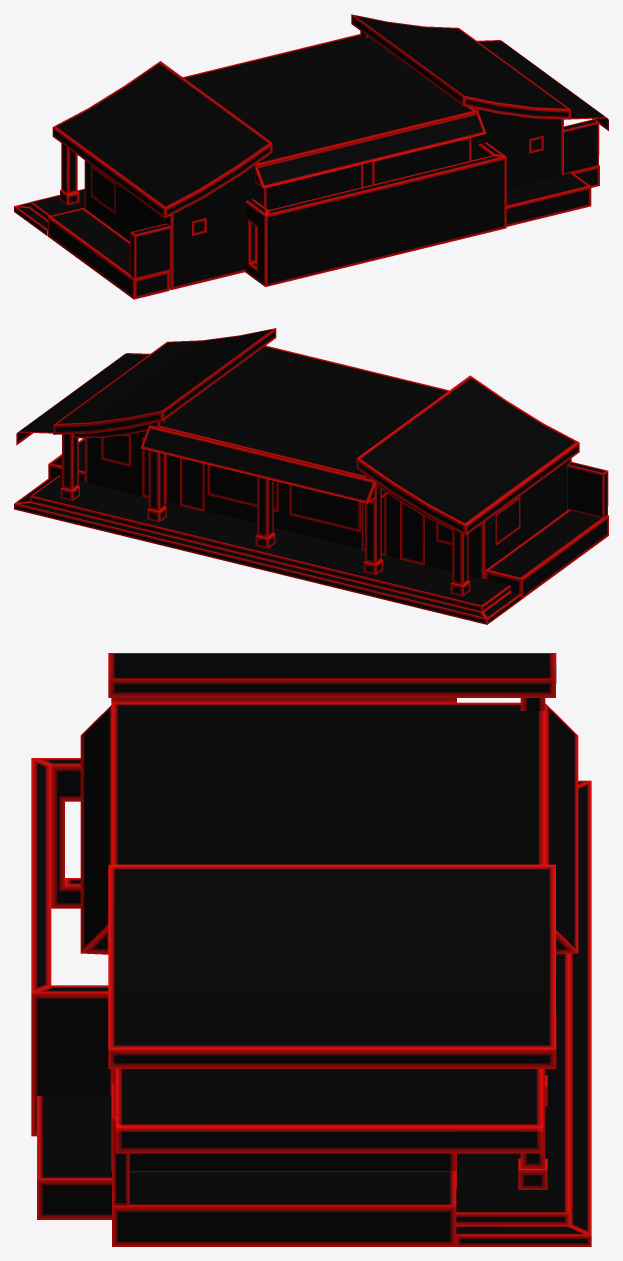
3 views of the same model, one above another, from view 1: azimuth 30°, elevation 25°; view 2: azimuth 150°, elevation 25°; view 3: azimuth 270°, elevation 25° (orthographic). The views are drawn at different scales.
Visible parts, largest first — view 1: Object005; view 2: Object005; view 3: Object005.
Part boxes in pixels (x1=…): Object005: x1=14, y1=14, x2=608, y2=299; Object005: x1=14, y1=328, x2=608, y2=624; Object005: x1=31, y1=653, x2=591, y2=1246.
Bounding box in the file's own units: 1777 × 905 × 442.
